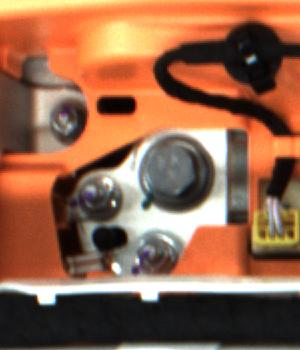nut_b: (130, 134, 223, 215)
